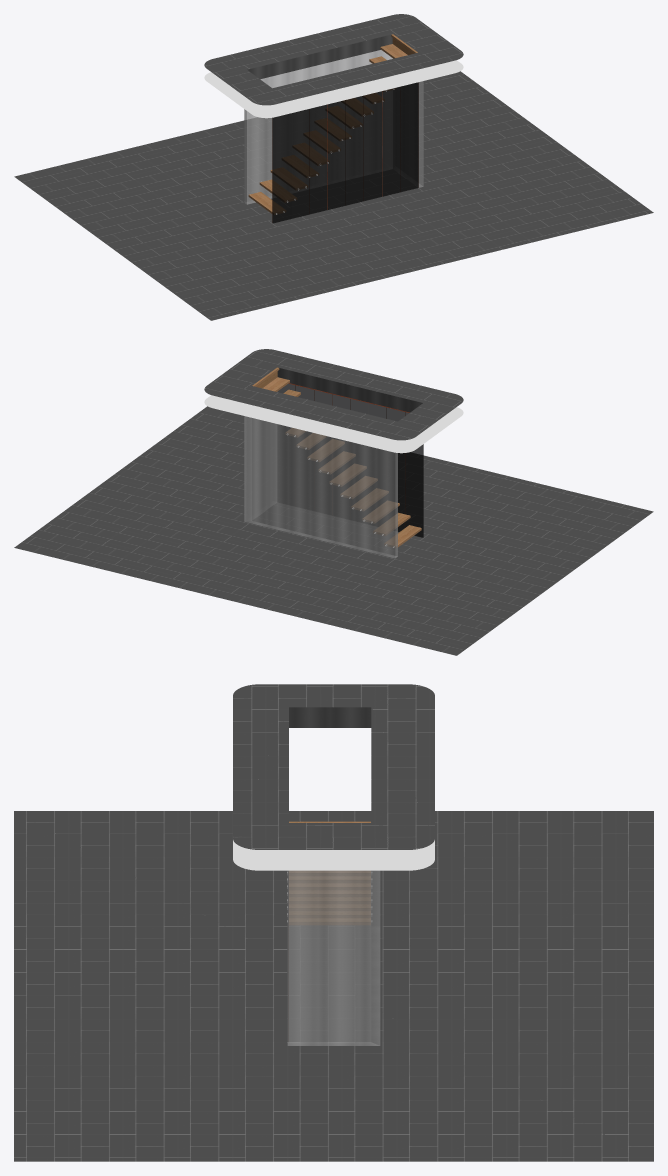
3 views of the same model, one above another, from view 1: azimuth 30°, elevation 25°; view 2: azimuth 150°, elevation 25°; view 3: azimuth 270°, elevation 25° (orthographic). The views are drawn at different scales.
Visible parts, largest first — view 1: _x0023_OBJECT3Dcon_Blacktile.jpg1111, _x0023_BOTTOMRAIL1110_x002C_3, _x0023_BEGIN_WALLcon_mur.jpg1110_x002C_3, _x0023_TREADcon_Oak2200.jpg1111, _x0023_OBJECT3D0_x002C_90_x002C_90_x002C_91, _x0023_BEGIN_OPENINGcon_mur.jpg1111; view 2: _x0023_OBJECT3Dcon_Blacktile.jpg1111, _x0023_BEGIN_WALLcon_mur.jpg1110_x002C_3, _x0023_BOTTOMRAIL1110_x002C_3, _x0023_TREADcon_Oak2200.jpg1111, _x0023_OBJECT3D0_x002C_90_x002C_90_x002C_91, _x0023_BEGIN_OPENINGcon_mur.jpg1111; view 3: _x0023_OBJECT3Dcon_Blacktile.jpg1111, _x0023_BEGIN_WALLcon_mur.jpg1110_x002C_3, _x0023_TREADcon_Oak2200.jpg1111, _x0023_OBJECT3D0_x002C_90_x002C_90_x002C_91, _x0023_BEGIN_OPENINGcon_mur.jpg1111.
Part boxes in pixels (<box>): _x0023_OBJECT3Dcon_Blacktile.jpg1111: <box>14,14,653,320</box>; _x0023_BOTTOMRAIL1110_x002C_3: <box>272,82,418,223</box>; _x0023_BEGIN_WALLcon_mur.jpg1110_x002C_3: <box>244,50,423,204</box>; _x0023_TREADcon_Oak2200.jpg1111: <box>248,34,417,214</box>; _x0023_OBJECT3D0_x002C_90_x002C_90_x002C_91: <box>204,60,463,118</box>; _x0023_BEGIN_OPENINGcon_mur.jpg1111: <box>247,34,392,79</box>; _x0023_OBJECT3Dcon_Blacktile.jpg1111: <box>14,349,653,655</box>; _x0023_BEGIN_WALLcon_mur.jpg1110_x002C_3: <box>244,416,397,558</box>; _x0023_BOTTOMRAIL1110_x002C_3: <box>277,383,423,537</box>; _x0023_TREADcon_Oak2200.jpg1111: <box>252,367,421,547</box>; _x0023_OBJECT3D0_x002C_90_x002C_90_x002C_91: <box>204,395,463,453</box>; _x0023_BEGIN_OPENINGcon_mur.jpg1111: <box>277,368,422,412</box>; _x0023_OBJECT3Dcon_Blacktile.jpg1111: <box>14,684,653,1161</box>; _x0023_BEGIN_WALLcon_mur.jpg1110_x002C_3: <box>287,870,380,1045</box>; _x0023_TREADcon_Oak2200.jpg1111: <box>289,821,370,924</box>; _x0023_OBJECT3D0_x002C_90_x002C_90_x002C_91: <box>233,840,434,870</box>; _x0023_BEGIN_OPENINGcon_mur.jpg1111: <box>289,707,371,727</box>.
Size of the model in its own units: 15.28 by 4.45 by 11.78.
10 materials, 7 textured.
